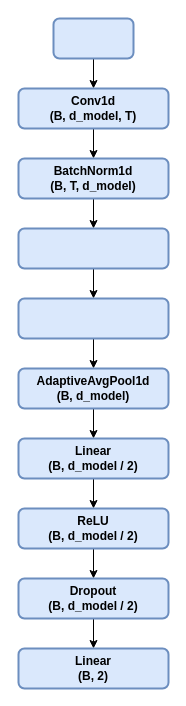
Image size: 186x706. Some labels were removed from this diagram. The box of each missing label's shape, as (x1, y1, x2, y2) in pixels:
Input (B, T, F): (52, 17, 134, 59)
ReLU (B, T, d_model): (17, 227, 169, 269)
TransformerEncoder (B, T, d_model): (17, 297, 169, 339)
